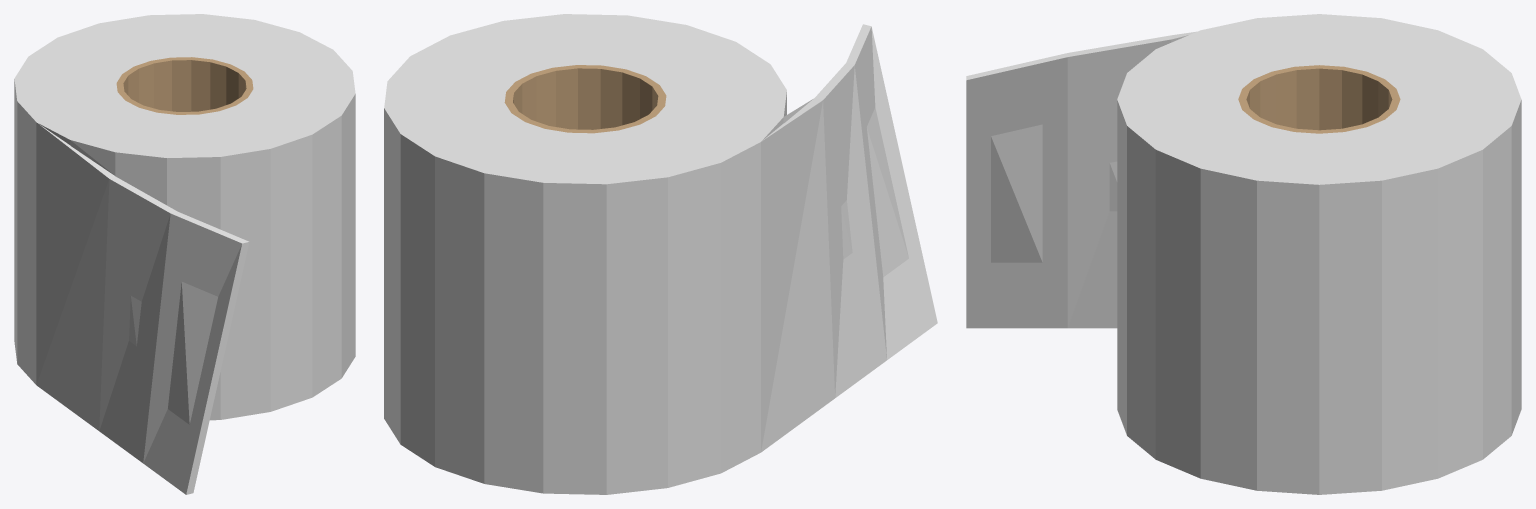
Rendered from 525 Toilet Roll.obj.
3 renders of one model, left to right at view 1: azimuth 30°, elevation 25°; view 2: azimuth 150°, elevation 25°; view 3: azimuth 270°, elevation 25°, orthographic. The views are drawn at different scales.
Parts seen in each view (by area): view 1: Toilet_Roll; view 2: Toilet_Roll; view 3: Toilet_Roll.
Boxes of the visible parts, x1,y1,x2,y2 form: Toilet_Roll: [14, 14, 355, 494]; Toilet_Roll: [384, 14, 937, 494]; Toilet_Roll: [966, 14, 1521, 494].
Bounding box in the file's own units: 23.4 × 19.8 × 32.13.
Materials: 1 (1 with a texture image).
